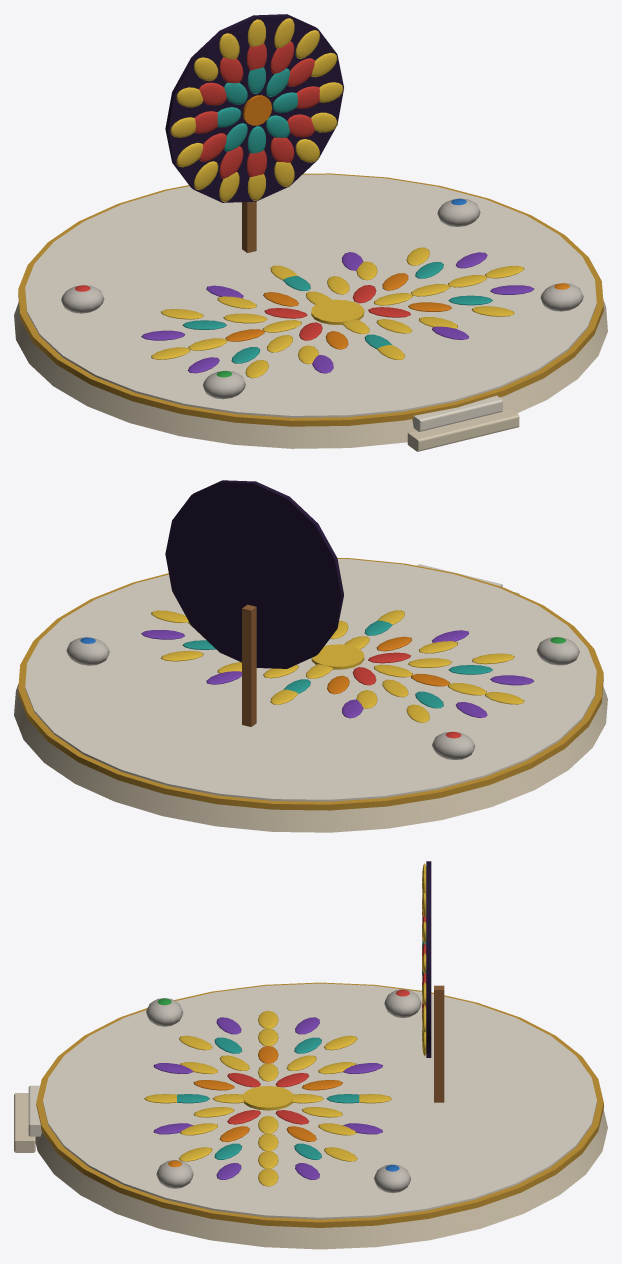
Rendered from mandalaGarden.glb.
3 renders of one model, top to bottom at view 1: azimuth 30°, elevation 25°; view 2: azimuth 150°, elevation 25°; view 3: azimuth 270°, elevation 25°, orthographic. The views are drawn at different scales.
Parts seen in each view (by area): view 1: part_000, part_001; view 2: part_000, part_001; view 3: part_000, part_001.
Part boxes in pixels (x1,y1,x2,y2): part_000: [14, 173, 607, 451]; part_001: [165, 14, 343, 202]; part_000: [14, 558, 607, 832]; part_001: [165, 480, 343, 668]; part_000: [14, 982, 607, 1249]; part_001: [422, 861, 431, 1057].
Bounding box in the file's own units: 11.12 × 5.5 × 11.47.
